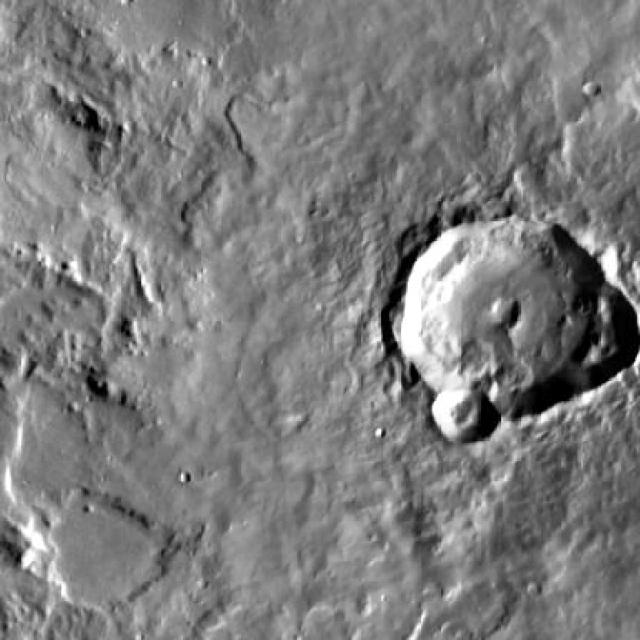crater: (380, 212, 598, 418), (35, 492, 157, 608), (499, 274, 621, 389), (430, 375, 501, 443), (583, 81, 600, 97)
